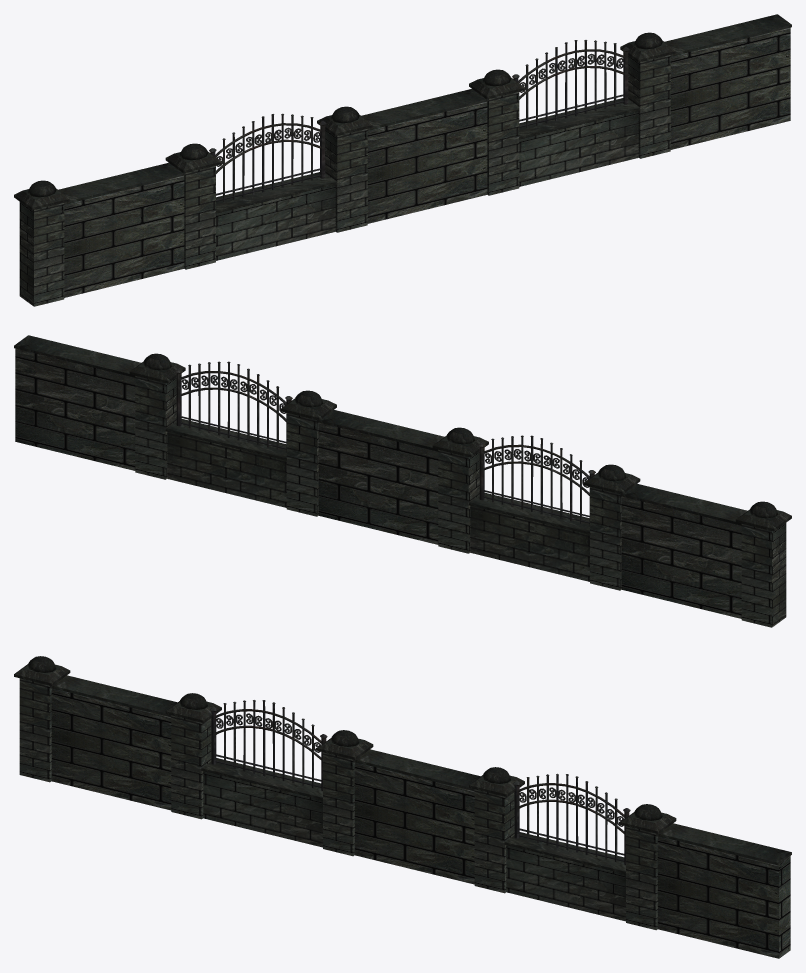
The model's file is paredes.obj.
3 renders of one model, top to bottom at view 1: azimuth 30°, elevation 25°; view 2: azimuth 150°, elevation 25°; view 3: azimuth 330°, elevation 25°, orthographic.
Parts seen in each view (by area): view 1: MuroAlto_003_TijolinhoPilarGrande_001, MuroAlto_005_TijolinhoPilarGrande_001, MuroAlto_004_TijolinhoPilarGrande_001, MuroBaixo_002_Tijolinho_001, MuroBaixo_003_Tijolinho_001, Pilar_005_TijolinhoPilar_001, Cylinder_003_MetalGrade_001, Cylinder_002_MetalGrade_001, Pilar_007_TijolinhoPilar_001, Pilar_009_TijolinhoPilar_001, Pilar_008_TijolinhoPilar_001, Pilar_006_TijolinhoPilar_001 (+10 smaller); view 2: MuroAlto_005_TijolinhoPilarGrande_001, MuroAlto_003_TijolinhoPilarGrande_001, MuroAlto_004_TijolinhoPilarGrande_001, MuroBaixo_002_Tijolinho_001, MuroBaixo_003_Tijolinho_001, Pilar_005_TijolinhoPilar_001, Cylinder_003_MetalGrade_001, Cylinder_002_MetalGrade_001, Pilar_007_TijolinhoPilar_001, Pilar_009_TijolinhoPilar_001, Pilar_008_TijolinhoPilar_001, Pilar_006_TijolinhoPilar_001 (+10 smaller); view 3: MuroAlto_005_TijolinhoPilarGrande_001, MuroAlto_003_TijolinhoPilarGrande_001, MuroAlto_004_TijolinhoPilarGrande_001, MuroBaixo_003_Tijolinho_001, MuroBaixo_002_Tijolinho_001, Cylinder_003_MetalGrade_001, Cylinder_002_MetalGrade_001, Pilar_008_TijolinhoPilar_001, Pilar_006_TijolinhoPilar_001, Pilar_005_TijolinhoPilar_001, Pilar_007_TijolinhoPilar_001, Pilar_009_TijolinhoPilar_001 (+10 smaller).
Boxes of the visible parts, x1=… form: MuroAlto_003_TijolinhoPilarGrande_001: x1=64, y1=175, x2=184, y2=297; MuroAlto_005_TijolinhoPilarGrande_001: x1=670, y1=27, x2=790, y2=149; MuroAlto_004_TijolinhoPilarGrande_001: x1=367, y1=101, x2=487, y2=223; MuroBaixo_002_Tijolinho_001: x1=216, y1=184, x2=335, y2=260; MuroBaixo_003_Tijolinho_001: x1=519, y1=111, x2=638, y2=186; Pilar_005_TijolinhoPilar_001: x1=19, y1=202, x2=64, y2=306; Cylinder_003_MetalGrade_001: x1=512, y1=40, x2=629, y2=127; Cylinder_002_MetalGrade_001: x1=209, y1=113, x2=326, y2=201; Pilar_007_TijolinhoPilar_001: x1=325, y1=128, x2=367, y2=232; Pilar_009_TijolinhoPilar_001: x1=628, y1=55, x2=670, y2=158; Pilar_008_TijolinhoPilar_001: x1=487, y1=92, x2=519, y2=195; Pilar_006_TijolinhoPilar_001: x1=184, y1=165, x2=215, y2=269; MuroAlto_005_TijolinhoPilarGrande_001: x1=15, y1=348, x2=135, y2=470; MuroAlto_003_TijolinhoPilarGrande_001: x1=621, y1=496, x2=741, y2=618; MuroAlto_004_TijolinhoPilarGrande_001: x1=318, y1=422, x2=438, y2=544; MuroBaixo_002_Tijolinho_001: x1=470, y1=505, x2=589, y2=581; MuroBaixo_003_Tijolinho_001: x1=167, y1=432, x2=286, y2=507; Pilar_005_TijolinhoPilar_001: x1=741, y1=523, x2=786, y2=627; Cylinder_003_MetalGrade_001: x1=175, y1=361, x2=292, y2=451; Cylinder_002_MetalGrade_001: x1=478, y1=435, x2=595, y2=525; Pilar_007_TijolinhoPilar_001: x1=438, y1=449, x2=479, y2=553; Pilar_009_TijolinhoPilar_001: x1=135, y1=376, x2=176, y2=479; Pilar_008_TijolinhoPilar_001: x1=286, y1=413, x2=318, y2=516; Pilar_006_TijolinhoPilar_001: x1=590, y1=486, x2=621, y2=590; MuroAlto_005_TijolinhoPilarGrande_001: x1=657, y1=836, x2=790, y2=958; MuroAlto_003_TijolinhoPilarGrande_001: x1=51, y1=688, x2=171, y2=810; MuroAlto_004_TijolinhoPilarGrande_001: x1=354, y1=762, x2=474, y2=884; MuroBaixo_003_Tijolinho_001: x1=506, y1=845, x2=625, y2=921; MuroBaixo_002_Tijolinho_001: x1=203, y1=771, x2=322, y2=847; Cylinder_003_MetalGrade_001: x1=513, y1=773, x2=630, y2=864; Cylinder_002_MetalGrade_001: x1=210, y1=700, x2=327, y2=790; Pilar_008_TijolinhoPilar_001: x1=474, y1=789, x2=514, y2=893; Pilar_006_TijolinhoPilar_001: x1=171, y1=715, x2=211, y2=819; Pilar_005_TijolinhoPilar_001: x1=19, y1=678, x2=51, y2=782; Pilar_007_TijolinhoPilar_001: x1=323, y1=752, x2=354, y2=856; Pilar_009_TijolinhoPilar_001: x1=626, y1=826, x2=657, y2=930.
Bounding box in the file's own units: 108 × 17.25 × 4.43.
5 materials, 5 textured.
